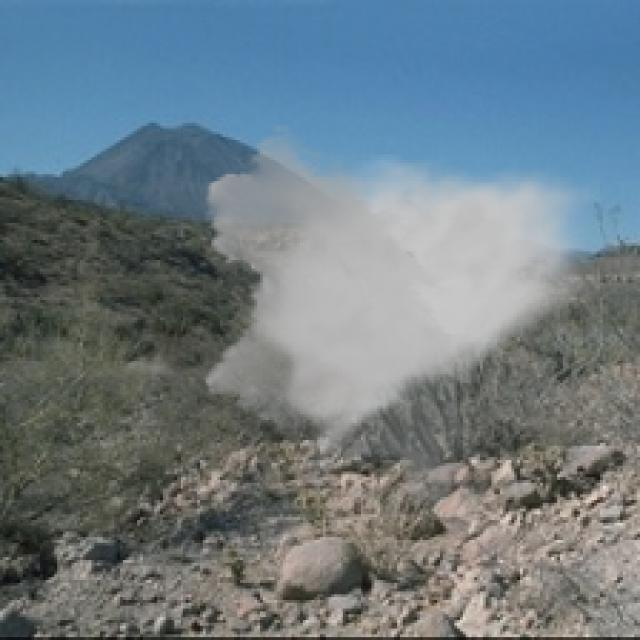smoke: (194, 123, 600, 517)
